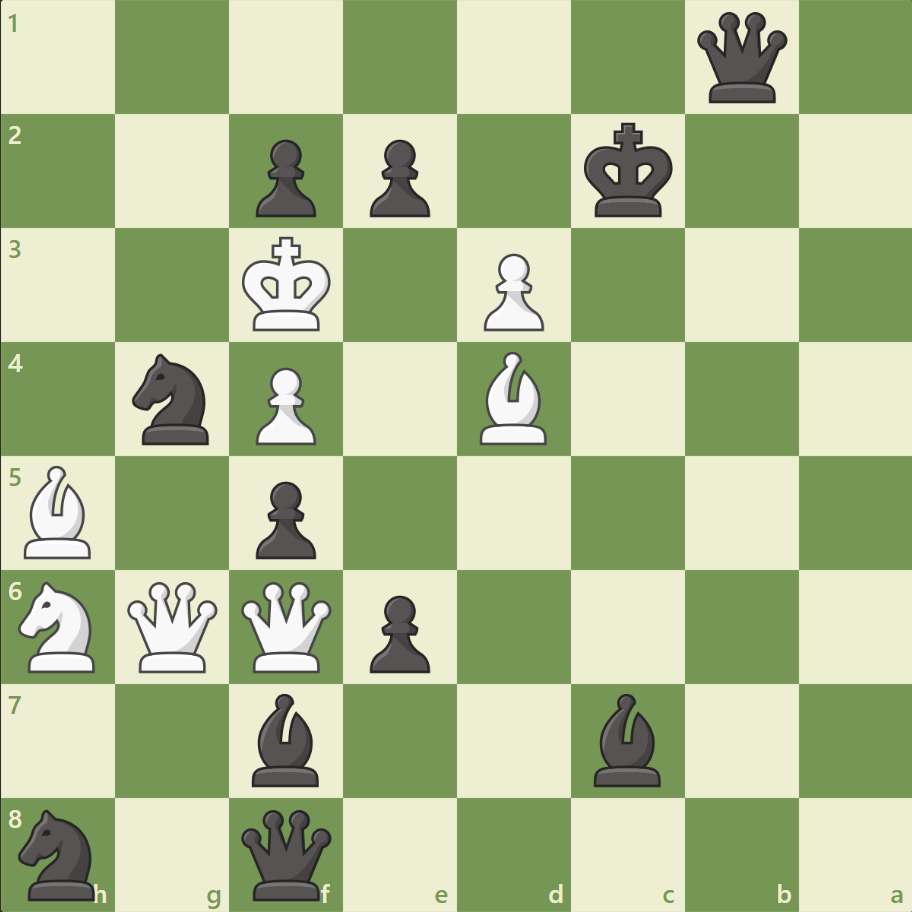B: (17, 460, 101, 563), (471, 347, 555, 449)
K: (238, 231, 338, 339)
N: (11, 575, 108, 677)
P: (247, 359, 322, 450), (474, 246, 549, 337)
Q: (237, 576, 336, 676), (124, 576, 223, 676)
b: (585, 687, 669, 790), (244, 687, 328, 790)
k: (579, 117, 679, 225)
n: (124, 348, 222, 450), (11, 802, 108, 904)
p: (247, 473, 322, 564), (247, 132, 322, 223), (361, 586, 435, 677), (361, 132, 435, 223)
q: (237, 804, 336, 903), (691, 9, 790, 108)
